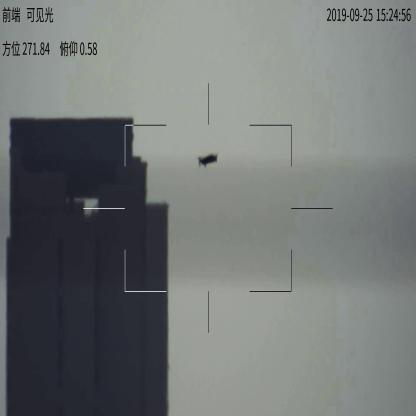uav: (198, 152, 221, 169)
